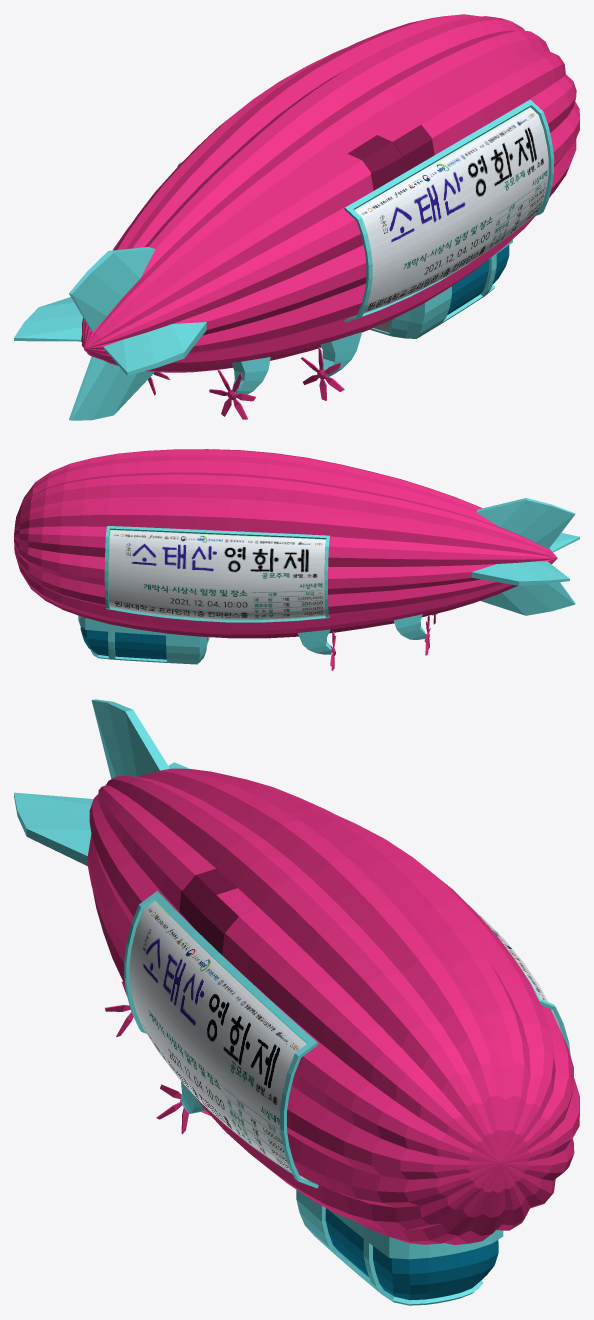
The model's file is 비해앵.fbx.
The picture shows the model from 3 angles, top to bottom: view 1: azimuth 30°, elevation 25°; view 2: azimuth 150°, elevation 25°; view 3: azimuth 270°, elevation 25°; orthographic projection. The views are drawn at different scales.
Visible parts, largest first — view 1: baloon, cube2, wings, cabin_1, cube, sper, propeller4, propeller2, pCube2, pCube3, pCube4, pCube5; view 2: baloon, cube2, wings, cabin_1, cube1, sper; view 3: baloon, cube2, cabin_1, wings, cube.
Part boxes in pixels (box(x1,y1,x2,y2)): baloon: box(81, 14, 579, 372); cube2: box(354, 107, 548, 316); wings: box(14, 247, 206, 420); cabin_1: box(369, 239, 512, 338); cube: box(344, 99, 554, 322); sper: box(231, 332, 361, 394); propeller4: box(209, 369, 255, 419); propeller2: box(300, 347, 344, 400); pCube2: box(362, 142, 403, 173); pCube3: box(393, 125, 432, 155); pCube4: box(371, 157, 405, 189); pCube5: box(403, 139, 434, 171); baloon: box(14, 449, 557, 638); cube2: box(108, 530, 326, 620); wings: box(471, 498, 579, 615); cabin_1: box(78, 616, 209, 664); cube1: box(104, 526, 329, 622); sper: box(297, 614, 425, 654); baloon: box(87, 768, 579, 1244); cube2: box(129, 900, 561, 1180); cabin_1: box(296, 1190, 503, 1305); wings: box(14, 699, 189, 865); cube: box(124, 891, 318, 1188).
Size of the model in its own units: 724 by 287 by 428.
